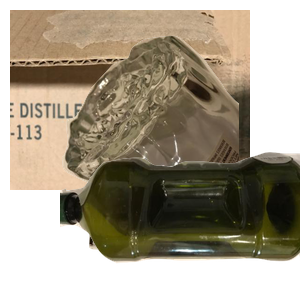cardboard: (10, 10, 250, 190)
glass: (60, 33, 300, 213)
plastic: (60, 149, 300, 300)
trash: (86, 158, 242, 300)
